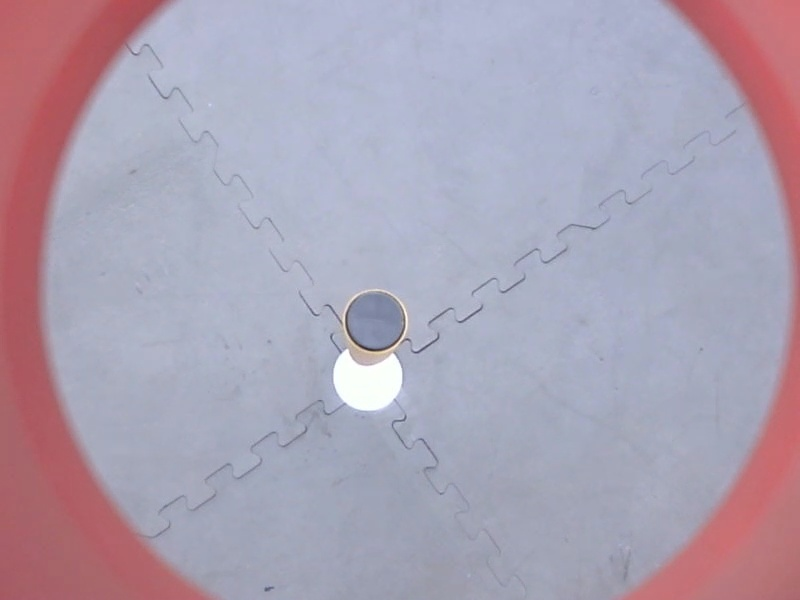tip: (340, 285, 412, 358)
